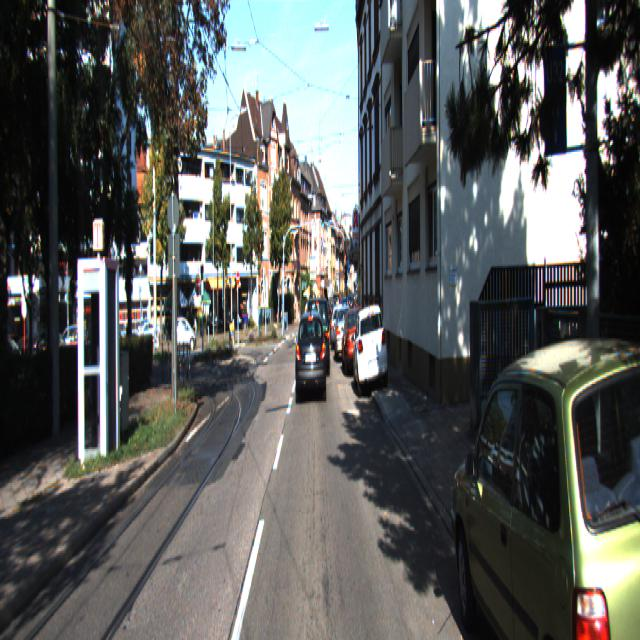Car: (448, 312, 640, 638), (352, 302, 388, 401), (294, 307, 326, 406), (340, 306, 369, 382), (305, 296, 329, 380), (333, 307, 354, 367), (170, 316, 196, 352)
